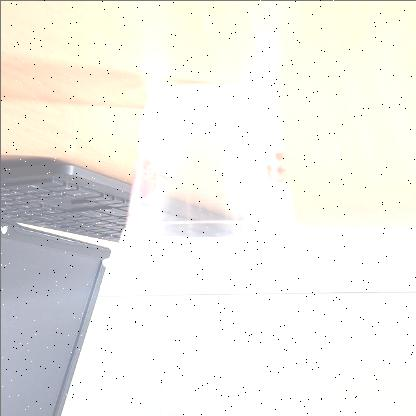Others: (101, 82, 316, 272)
